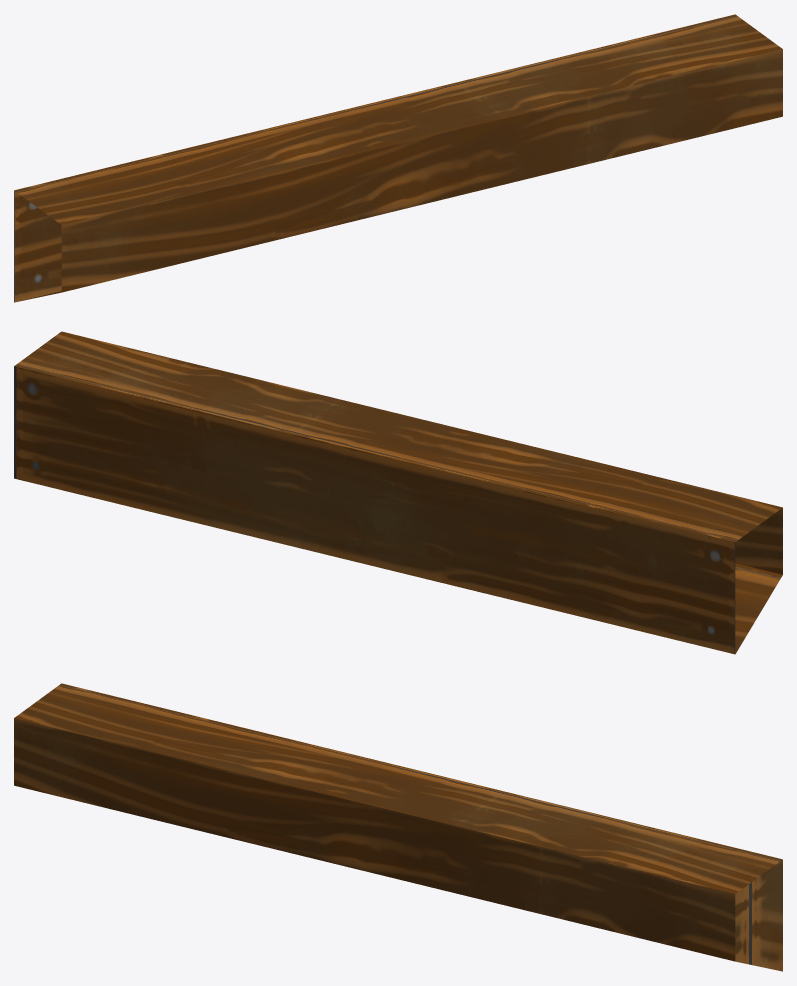
The picture shows the model from 3 angles, top to bottom: view 1: azimuth 30°, elevation 25°; view 2: azimuth 150°, elevation 25°; view 3: azimuth 330°, elevation 25°; orthographic projection.
Visible parts, largest first — view 1: Cube.1535; view 2: Cube.1535; view 3: Cube.1535.
Boxes of the visible parts, x1=… form: Cube.1535: x1=14, y1=14, x2=782, y2=302; Cube.1535: x1=14, y1=331, x2=782, y2=654; Cube.1535: x1=14, y1=683, x2=782, y2=971.
Size of the model in its own units: 306 by 45.49 by 34.95.
Materials: 1 (1 with a texture image).
